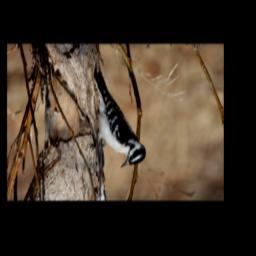Woodpecker: (86, 65, 147, 168)
